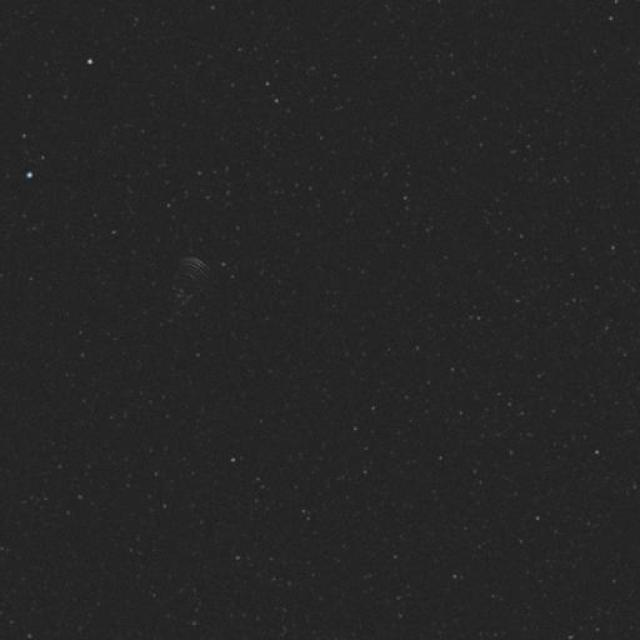debris: (156, 244, 227, 312)
